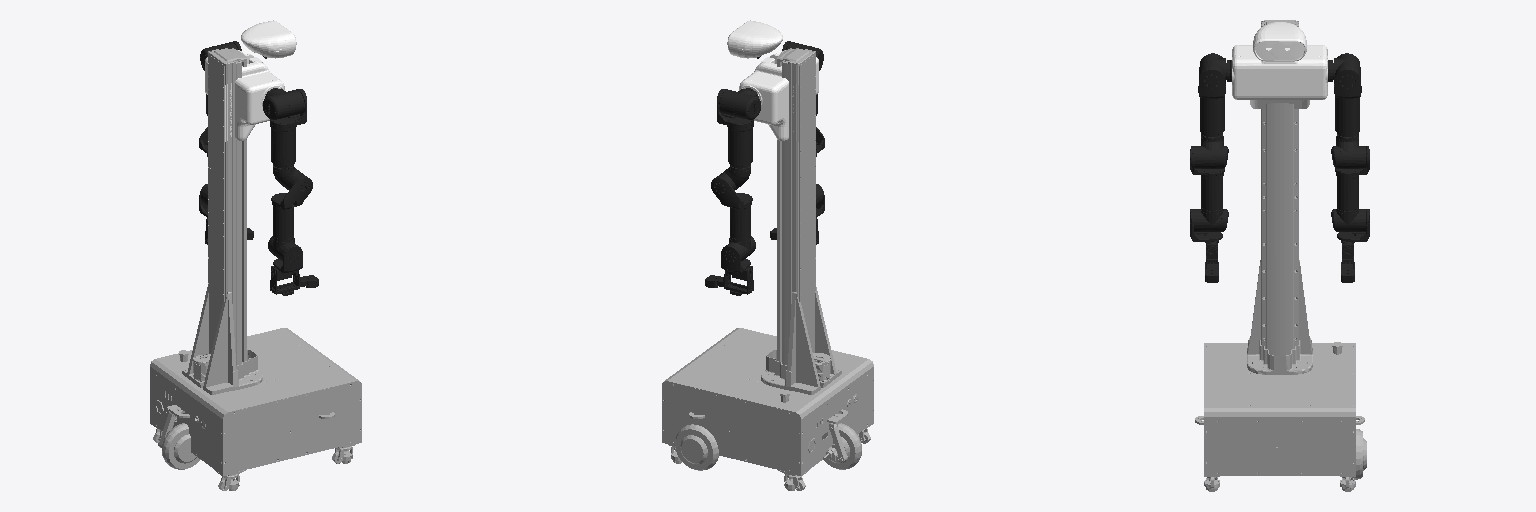
--- Render facts (derived) ---
The picture shows the robot from 3 angles, left to right: view 1: azimuth 30°, elevation 25°; view 2: azimuth 150°, elevation 25°; view 3: azimuth 270°, elevation 25°; orthographic projection.
Model ffw_sg2_follower with 40 links and 39 joints (30 revolute, 1 prismatic, 8 fixed), rooted at world, posed every joint at zero.
Links seen in each view (by area): view 1: base_link, lift_link, arm_base_link, head_link2, arm_r_link2, arm_r_link4, rear_wheel_drive_link, arm_r_link1, arm_r_link6, arm_r_link7; view 2: base_link, lift_link, arm_base_link, left_wheel_drive_link, head_link2, arm_l_link2, arm_l_link4, arm_l_link1, rear_wheel_drive_link, arm_l_link6, arm_l_link7, rear_wheel_steer_link; view 3: base_link, arm_base_link, head_link2, arm_l_link2, arm_r_link2, arm_l_link4, arm_r_link4, arm_l_link3, arm_r_link3, arm_r_link5, arm_l_link5, arm_l_link1 (+1 smaller).
Link boxes in pixels (bbox=[...]): base_link: bbox=[150, 48, 361, 490]; lift_link: bbox=[188, 48, 240, 387]; arm_base_link: bbox=[205, 50, 284, 141]; head_link2: bbox=[241, 20, 296, 58]; arm_r_link2: bbox=[270, 89, 306, 166]; arm_r_link4: bbox=[271, 177, 312, 238]; rear_wheel_drive_link: bbox=[162, 423, 200, 469]; arm_r_link1: bbox=[263, 88, 304, 119]; arm_r_link6: bbox=[271, 245, 302, 280]; arm_r_link7: bbox=[270, 269, 318, 295]; base_link: bbox=[662, 48, 873, 490]; lift_link: bbox=[783, 48, 835, 387]; arm_base_link: bbox=[739, 50, 818, 141]; left_wheel_drive_link: bbox=[675, 424, 718, 470]; head_link2: bbox=[727, 20, 782, 58]; arm_l_link2: bbox=[717, 89, 753, 166]; arm_l_link4: bbox=[711, 177, 752, 238]; arm_l_link1: bbox=[719, 88, 760, 119]; rear_wheel_drive_link: bbox=[822, 423, 861, 469]; arm_l_link6: bbox=[721, 245, 752, 280]; arm_l_link7: bbox=[705, 269, 753, 295]; rear_wheel_steer_link: bbox=[816, 409, 847, 462]; base_link: bbox=[1204, 103, 1355, 491]; arm_base_link: bbox=[1232, 45, 1327, 108]; head_link2: bbox=[1253, 22, 1306, 61]; arm_l_link2: bbox=[1334, 68, 1361, 134]; arm_r_link2: bbox=[1198, 68, 1225, 134]; arm_l_link4: bbox=[1335, 146, 1369, 210]; arm_r_link4: bbox=[1190, 146, 1224, 210]; arm_l_link3: bbox=[1331, 133, 1365, 168]; arm_r_link3: bbox=[1194, 133, 1228, 168]; arm_r_link5: bbox=[1194, 207, 1228, 231]; arm_l_link5: bbox=[1331, 207, 1365, 231]; arm_l_link1: bbox=[1328, 53, 1360, 83].
Size in the robot's own frame: 0.6584 by 0.6042 by 1.61 metres.
24 mesh visuals loaded from 30 distinct referenced files (24 binary STL); not drawn: 11 (reference not matched to a file when rendering), 2 (reference in a form the renderer does not follow; not among the files counted above).

robot.urdf — ffw_sg2_follower:
<?xml version="1.0" ?>
<!-- =================================================================================== -->
<!-- |    This document was autogenerated by xacro from ./ffw_sg2_follower.urdf.xacro  | -->
<!-- |    EDITING THIS FILE BY HAND IS NOT RECOMMENDED                                 | -->
<!-- =================================================================================== -->
<robot name="ffw_sg2_follower">
  <link name="world"/>
  <joint name="world_fixed" type="fixed">
    <parent link="world"/>
    <child link="base_link"/>
    <origin rpy="0 0 0" xyz="0.0 0.0 0.0"/>
  </joint>
  <link name="base_link">
    <visual>
      <origin rpy="0 0 0" xyz="0 0 0"/>
      <geometry>
        <mesh filename="package://ffw_description/meshes/ffw_sg2_rev1_follower/base_mobile_assy.stl" scale="0.001 0.001 0.001"/>
      </geometry>
      <material name="silver">
        <color rgba="0.75 0.75 0.75 1"/>
      </material>
    </visual>
    <collision>
      <origin rpy="0 0 0" xyz="0 0 0"/>
      <geometry>
        <mesh filename="package://ffw_description/meshes/ffw_sg2_rev1_follower/base_mobile_assy.stl" scale="0.001 0.001 0.001"/>
      </geometry>
    </collision>
    <inertial>
       <origin xyz="-4.574796400e-02 6.581058800e-03 1.943184200e-01" />
       <mass value="35.989" />
       <inertia ixx="0.0172547" ixy="0.0000000647" ixz="0.000000189"
                iyy="0.0398374" iyz="0.000000171"
                izz="0.0284613" />
    </inertial>
  </link>
  <link name="lift_link">
    <visual>
      <origin rpy="0 0 0" xyz="0 0 0"/>
      <geometry>
        <mesh filename="package://ffw_description/meshes/ffw_sg2_rev1_follower/lift_link.stl" scale="0.001 0.001 0.001"/>
      </geometry>
      <material name="silver">
        <color rgba="0.75 0.75 0.75 1"/>
      </material>
    </visual>
    <collision>
      <origin rpy="0 0 0" xyz="0 0 0"/>
      <geometry>
        <mesh filename="package://ffw_description/meshes/ffw_sg2_rev1_follower/lift_link.stl" scale="0.001 0.001 0.001"/>
      </geometry>
    </collision>
    <inertial>
       <origin xyz="-1.286987800e-01 -1.604580800e-05 8.945601700e-01" />
       <mass value="17.9" />
       <inertia ixx="0.0100947" ixy="-0.0000000356" ixz="0.0012131"
                iyy="0.0102705" iyz="0.0000000702"
                izz="0.0001971" />
    </inertial>
  </link>
  <joint name="lift_fixed_joint" type="fixed">
    <parent link="base_link"/>
    <child link="lift_link"/>
    <origin rpy="0 0 0" xyz="0.0 0.0 0.0"/>
  </joint>
  <material name="aluminum">
    <color rgba="0.5 0.5 0.5 1"/>
  </material>
  <material name="plastic">
    <color rgba="0.1 0.1 0.1 1"/>
  </material>
  <joint name="lift_joint" type="prismatic">
    <parent link="base_link"/>
    <child link="arm_base_link"/>
    <origin rpy="0 0 0" xyz="-0.0199 0 1.4316"/>
    <axis xyz="0 0 1"/>
    <limit effort="1000" lower="-0.5" upper="0.0" velocity="4.8"/>
    <dynamics damping="0.1"/>
  </joint>
  <link name="arm_base_link">
    <visual>
      <origin rpy="0 0 0" xyz="0 0 0"/>
      <geometry>
        <mesh filename="package://ffw_description/meshes/common/follower/body_arm_assy.stl" scale="0.001 0.001 0.001"/>
      </geometry>
      <material name="white">
        <color rgba="1 1 1 1"/>
      </material>
    </visual>
    <collision>
      <origin rpy="0 0 0" xyz="0 0 0"/>
      <geometry>
        <mesh filename="package://ffw_description/meshes/common/follower/body_arm_assy.stl" scale="0.001 0.001 0.001"/>
      </geometry>
    </collision>
    <inertial>
      <origin xyz="-1.492287800e-02 2.731522500e-03 -4.342526400e-02"/>
      <mass value="6.193955900e+00"/>
      <inertia ixx="1.082886600e-01" ixy="2.929692500e-06" ixz="-1.572750800e-03" iyy="5.432369700e-02" iyz="1.698970600e-03" izz="7.960084300e-02"/>
    </inertial>
  </link>
  <joint name="head_joint1" type="revolute">
    <parent link="arm_base_link"/>
    <child link="head_link1"/>
    <origin rpy="0 0 0" xyz="0.0494878 0 0.102123"/>
    <axis xyz="0 1 0"/>
    <limit effort="1000" lower="-0.2317" upper="0.6951" velocity="4.8"/>
    <dynamics damping="0.1"/>
  </joint>
  <link name="head_link1">
    <visual>
      <origin rpy="0 0 0" xyz="0 0 0"/>
      <geometry>
        <mesh filename="package://ffw_description/meshes/common/follower/head_link1.stl" scale="0.001 0.001 0.001"/>
      </geometry>
      <material name="grey">
        <color rgba="0.2 0.2 0.2 1"/>
      </material>
    </visual>
    <collision>
      <origin rpy="0 0 0" xyz="0 0 0"/>
      <geometry>
        <mesh filename="package://ffw_description/meshes/common/follower/head_link1.stl" scale="0.001 0.001 0.001"/>
      </geometry>
    </collision>
    <inertial>
      <origin xyz="2.533965600e-02 0.000000000e+00 4.774514600e-02"/>
      <mass value="1.235180200e-01"/>
      <inertia ixx="6.870965700e-03" ixy="8.592260200e-07" ixz="-3.002664500e-04" iyy="1.771510200e-02" iyz="-4.447973700e-07" izz="1.631113500e-02"/>
    </inertial>
  </link>
  <joint name="head_joint2" type="revolute">
    <parent link="head_link1"/>
    <child link="head_link2"/>
    <origin rpy="0 0 0" xyz="0.0365694 0 0.0563797"/>
    <axis xyz="0 0 1"/>
    <limit effort="1000" lower="-0.35" upper="0.35" velocity="4.8"/>
    <dynamics damping="0.1"/>
  </joint>
  <link name="head_link2">
    <visual>
      <origin rpy="0 0 0" xyz="0 0 0"/>
      <geometry>
        <mesh filename="package://ffw_description/meshes/common/follower/head_link2.stl" scale="0.001 0.001 0.001"/>
      </geometry>
      <material name="white">
        <color rgba="1 1 1 1"/>
      </material>
    </visual>
    <collision>
      <origin rpy="0 0 0" xyz="0 0 0"/>
      <geometry>
        <mesh filename="package://ffw_description/meshes/common/follower/head_link2.stl" scale="0.001 0.001 0.001"/>
      </geometry>
    </collision>
    <inertial>
      <origin xyz="3.052563400e-03 1.180475700e-03 -1.593280400e-02"/>
      <mass value="3.254213000e-01"/>
      <inertia ixx="8.907301100e-04" ixy="-5.211330800e-06" ixz="1.758054200e-05" iyy="7.631788100e-04" iyz="-1.022156300e-06" izz="1.339403400e-03"/>
    </inertial>
  </link>
  <joint name="arm_l_joint1" type="revolute">
    <parent link="arm_base_link"/>
    <child link="arm_l_link1"/>
    <origin rpy="0 0 0" xyz="0 0.1045 0"/>
    <axis xyz="0 1 0"/>
    <limit effort="1000" lower="-3.14" upper="3.14" velocity="4.8"/>
    <dynamics damping="0.1"/>
  </joint>
  <link name="arm_l_link1">
    <visual>
      <origin rpy="0 0 0" xyz="0 0 0"/>
      <geometry>
        <mesh filename="package://ffw_description/meshes/common/follower/arm_l_link1.stl" scale="0.001 0.001 0.001"/>
      </geometry>
      <material name="black">
        <color rgba="0.2 0.2 0.2 1"/>
      </material>
    </visual>
    <collision>
      <origin rpy="0 0 0" xyz="0 0 0"/>
      <geometry>
        <mesh filename="package://ffw_description/meshes/common/follower/arm_l_link1.stl" scale="0.001 0.001 0.001"/>
      </geometry>
    </collision>
    <inertial>
      <origin xyz="1.421037300e-02 1.155371800e-01 1.120644000e-04"/>
      <mass value="2.001332200e+00"/>
      <inertia ixx="2.507557700e-03" ixy="-2.196355800e-04" ixz="1.151251900e-05" iyy="2.865299700e-03" iyz="-2.311007900e-06" izz="3.365371600e-03"/>
    </inertial>
  </link>
  <joint name="arm_l_joint2" type="revolute">
    <parent link="arm_l_link1"/>
    <child link="arm_l_link2"/>
    <origin rpy="0 0 0" xyz="0 0.123 0"/>
    <axis xyz="1 0 0"/>
    <limit effort="1000" lower="0.0" upper="3.14" velocity="4.8"/>
    <dynamics damping="0.1"/>
  </joint>
  <link name="arm_l_link2">
    <visual>
      <origin rpy="0 0 0" xyz="0 0 0"/>
      <geometry>
        <mesh filename="package://ffw_description/meshes/common/follower/arm_l_link2.stl" scale="0.001 0.001 0.001"/>
      </geometry>
      <material name="black">
        <color rgba="0.2 0.2 0.2 1"/>
      </material>
    </visual>
    <collision>
      <origin rpy="0 0 0" xyz="0 0 0"/>
      <geometry>
        <mesh filename="package://ffw_description/meshes/common/follower/arm_l_link2.stl" scale="0.001 0.001 0.001"/>
      </geometry>
    </collision>
    <inertial>
      <origin xyz="9.109841300e-03 -1.053016500e-04 -1.438640700e-01"/>
      <mass value="2.128261000e+00"/>
      <inertia ixx="9.976166600e-03" ixy="-1.420641600e-06" ixz="-2.370609000e-03" iyy="1.088835300e-02" iyz="4.832141500e-06" izz="3.168582700e-03"/>
    </inertial>
  </link>
  <joint name="arm_l_joint3" type="revolute">
    <parent link="arm_l_link2"/>
    <child link="arm_l_link3"/>
    <origin rpy="0 0 0" xyz="0 0 -0.165"/>
    <axis xyz="0 0 1"/>
    <limit effort="1000" lower="-3.14" upper="3.14" velocity="4.8"/>
    <dynamics damping="0.1"/>
  </joint>
  <link name="arm_l_link3">
    <visual>
      <origin rpy="0 0 0" xyz="0 0 0"/>
      <geometry>
        <mesh filename="package://ffw_description/meshes/common/follower/arm_l_link3.stl" scale="0.001 0.001 0.001"/>
      </geometry>
      <material name="black">
        <color rgba="0.2 0.2 0.2 1"/>
      </material>
    </visual>
    <collision>
      <origin rpy="0 0 0" xyz="0 0 0"/>
      <geometry>
        <mesh filename="package://ffw_description/meshes/common/follower/arm_l_link3.stl" scale="0.001 0.001 0.001"/>
      </geometry>
    </collision>
    <inertial>
      <origin xyz="2.987537300e-02 1.391394900e-02 -1.210139000e-01"/>
      <mass value="1.684755100e+00"/>
      <inertia ixx="2.878077200e-03" ixy="-2.615265200e-04" ixz="6.679408300e-04" iyy="2.707096100e-03" iyz="3.296252200e-04" izz="2.566350600e-03"/>
    </inertial>
  </link>
  <joint name="arm_l_joint4" type="revolute">
    <parent link="arm_l_link3"/>
    <child link="arm_l_link4"/>
    <origin rpy="0 0 0" xyz="0.041004 0 -0.135"/>
    <axis xyz="0 1 0"/>
    <limit effort="1000" lower="-2.9361" upper="1.0786" velocity="4.8"/>
    <dynamics damping="0.1"/>
  </joint>
  <link name="arm_l_link4">
    <visual>
      <origin rpy="0 0 0" xyz="0 0 0"/>
      <geometry>
        <mesh filename="package://ffw_description/meshes/common/follower/arm_l_link4.stl" scale="0.001 0.001 0.001"/>
      </geometry>
      <material name="black">
        <color rgba="0.2 0.2 0.2 1"/>
      </material>
    </visual>
    <collision>
      <origin rpy="0 0 0" xyz="0 0 0"/>
      <geometry>
        <mesh filename="package://ffw_description/meshes/common/follower/arm_l_link4.stl" scale="0.001 0.001 0.001"/>
      </geometry>
    </collision>
    <inertial>
      <origin xyz="-3.853865300e-02 9.807228600e-03 -1.313122800e-01"/>
      <mass value="1.508214400e+00"/>
      <inertia ixx="6.252303800e-03" ixy="-2.162798200e-04" ixz="-5.113660100e-04" iyy="5.705086400e-03" iyz="-1.597759100e-03" izz="2.098027800e-03"/>
    </inertial>
  </link>
  <joint name="arm_l_joint5" type="revolute">
    <parent link="arm_l_link4"/>
    <child link="arm_l_link5"/>
    <origin rpy="0 0 0" xyz="-0.041004 0 -0.1489"/>
    <axis xyz="0 0 1"/>
    <limit effort="1000" lower="-3.14" upper="3.14" velocity="4.8"/>
    <dynamics damping="0.1"/>
  </joint>
  <link name="arm_l_link5">
    <visual>
      <origin rpy="0 0 0" xyz="0 0 0"/>
      <geometry>
        <mesh filename="package://ffw_description/meshes/common/follower/arm_l_link5.stl" scale="0.001 0.001 0.001"/>
      </geometry>
      <material name="black">
        <color rgba="0.2 0.2 0.2 1"/>
      </material>
    </visual>
    <collision>
      <origin rpy="0 0 0" xyz="0 0 0"/>
      <geometry>
        <mesh filename="package://ffw_description/meshes/common/follower/arm_l_link5.stl" scale="0.001 0.001 0.001"/>
      </geometry>
    </collision>
    <inertial>
      <origin xyz="-3.122616100e-05 1.681922700e-02 -9.873815600e-02"/>
      <mass value="1.391783100e+00"/>
      <inertia ixx="1.885672100e-03" ixy="1.326915800e-06" ixz="2.418484800e-07" iyy="1.285272900e-03" iyz="1.287761700e-04" izz="1.689335300e-03"/>
    </inertial>
  </link>
  <joint name="arm_l_joint6" type="revolute">
    <parent link="arm_l_link5"/>
    <child link="arm_l_link6"/>
    <origin rpy="0 0 0" xyz="0 0 -0.1041"/>
    <axis xyz="0 1 0"/>
    <limit effort="1000" lower="-1.57" upper="1.57" velocity="4.8"/>
    <dynamics damping="0.1"/>
  </joint>
  <link name="arm_l_link6">
    <visual>
      <origin rpy="0 0 0" xyz="0 0 0"/>
      <geometry>
        <mesh filename="package://ffw_description/meshes/common/follower/arm_l_link6.stl" scale="0.001 0.001 0.001"/>
      </geometry>
      <material name="black">
        <color rgba="0.2 0.2 0.2 1"/>
      </material>
    </visual>
    <collision>
      <origin rpy="0 0 0" xyz="0 0 0"/>
      <geometry>
        <mesh filename="package://ffw_description/meshes/common/follower/arm_l_link6.stl" scale="0.001 0.001 0.001"/>
      </geometry>
    </collision>
    <inertial>
      <origin xyz="2.243891700e-03 1.876410500e-02 -6.480557600e-02"/>
      <mass value="6.577074100e-01"/>
      <inertia ixx="1.416138700e-03" ixy="2.839010300e-05" ixz="3.582229500e-05" iyy="1.142334400e-03" iyz="-5.356836800e-04" izz="1.017517600e-03"/>
    </inertial>
  </link>
  <joint name="arm_l_joint7" type="revolute">
    <parent link="arm_l_link6"/>
    <child link="arm_l_link7"/>
    <origin rpy="0 0 0" xyz="0 0 -0.0885"/>
    <axis xyz="1 0 0"/>
    <limit effort="1000" lower="-1.8201" upper="1.5804" velocity="4.8"/>
    <dynamics damping="0.1"/>
  </joint>
  <link name="arm_l_link7">
    <visual>
      <origin rpy="0 0 0" xyz="0 0 0"/>
      <geometry>
        <mesh filename="package://ffw_description/meshes/common/follower/arm_l_link7.stl" scale="0.001 0.001 0.001"/>
      </geometry>
      <material name="black">
        <color rgba="0.2 0.2 0.2 1"/>
      </material>
    </visual>
    <collision>
      <origin rpy="0 0 0" xyz="0 0 0"/>
      <geometry>
        <mesh filename="package://ffw_description/meshes/common/follower/arm_l_link7.stl" scale="0.001 0.001 0.001"/>
      </geometry>
    </collision>
    <inertial>
      <origin xyz="2.550659300e-02 0.000000000e+00 -5.539533100e-02"/>
      <mass value="1.668563000e-01"/>
      <inertia ixx="1.035867900e-04" ixy="0.000000000e+00" ixz="1.098870100e-05" iyy="4.524528700e-04" iyz="0.000000000e+00" izz="4.156884400e-04"/>
    </inertial>
  </link>
  <!-- camera body, with origin at bottom screw mount -->
  <joint name="camera_l_joint" type="fixed">
    <origin rpy="-1.57079632679 1.66678943569 0" xyz="0.108236 -0.021 -0.062552"/>
    <parent link="arm_l_link7"/>
    <child link="camera_l_bottom_screw_frame"/>
  </joint>
  <link name="camera_l_bottom_screw_frame"/>
  <joint name="camera_l_link_joint" type="fixed">
    <origin rpy="0 0 0" xyz="0.01085 0.009 0.021"/>
    <parent link="camera_l_bottom_screw_frame"/>
    <child link="camera_l_link"/>
  </joint>
  <link name="camera_l_link">
    <visual>
      <!-- the mesh origin is at front plate in between the two infrared camera axes -->
      <origin rpy="1.5707963267948966 0 1.5707963267948966" xyz="0.0038 -0.009 0"/>
      <geometry>
        <mesh filename="file:///root/ros2_ws/install/realsense2_description/share/realsense2_description/meshes/d405.stl" scale="0.001 0.001 0.001"/>
      </geometry>
      <material name="aluminum"/>
    </visual>
    <collision>
      <origin rpy="0 0 0" xyz="-0.0078 -0.009 0"/>
      <geometry>
        <box size="0.023 0.042 0.042"/>
      </geometry>
    </collision>
    <inertial>
      <mass value="0.072"/>
      <origin xyz="0 0 0"/>
      <inertia ixx="0.003881243" ixy="0.0" ixz="0.0" iyy="0.000498940" iyz="0.0" izz="0.003879257"/>
    </inertial>
  </link>
  <joint name="arm_r_joint1" type="revolute">
    <parent link="arm_base_link"/>
    <child link="arm_r_link1"/>
    <origin rpy="0 0 0" xyz="0 -0.1045 0"/>
    <axis xyz="0 1 0"/>
    <limit effort="1000" lower="-3.14" upper="3.14" velocity="4.8"/>
    <dynamics damping="0.1"/>
  </joint>
  <link name="arm_r_link1">
    <visual>
      <origin rpy="0 0 0" xyz="0 0 0"/>
      <geometry>
        <mesh filename="package://ffw_description/meshes/common/follower/arm_r_link1.stl" scale="0.001 0.001 0.001"/>
      </geometry>
      <material name="black">
        <color rgba="0.2 0.2 0.2 1"/>
      </material>
    </visual>
    <collision>
      <origin rpy="0 0 0" xyz="0 0 0"/>
      <geometry>
        <mesh filename="package://ffw_description/meshes/common/follower/arm_r_link1.stl" scale="0.001 0.001 0.001"/>
      </geometry>
    </collision>
    <inertial>
      <origin xyz="1.421037300e-02 -1.155371800e-01 -1.120644000e-04"/>
      <mass value="2.001332200e+00"/>
      <inertia ixx="2.507557700e-03" ixy="2.196355800e-04" ixz="-1.151251900e-05" iyy="2.865299700e-03" iyz="-2.311007900e-06" izz="3.365371600e-03"/>
    </inertial>
  </link>
  <joint name="arm_r_joint2" type="revolute">
    <parent link="arm_r_link1"/>
    <child link="arm_r_link2"/>
    <origin rpy="0 0 0" xyz="0 -0.123 0"/>
    <axis xyz="1 0 0"/>
    <limit effort="1000" lower="-3.14" upper="0" velocity="4.8"/>
    <dynamics damping="0.1"/>
  </joint>
  <link name="arm_r_link2">
    <visual>
      <origin rpy="0 0 0" xyz="0 0 0"/>
      <geometry>
        <mesh filename="package://ffw_description/meshes/common/follower/arm_r_link2.stl" scale="0.001 0.001 0.001"/>
      </geometry>
      <material name="black">
        <color rgba="0.2 0.2 0.2 1"/>
      </material>
    </visual>
    <collision>
      <origin rpy="0 0 0" xyz="0 0 0"/>
      <geometry>
        <mesh filename="package://ffw_description/meshes/common/follower/arm_r_link2.stl" scale="0.001 0.001 0.001"/>
      </geometry>
    </collision>
    <inertial>
      <origin xyz="9.109841300e-03 -1.053016500e-04 -1.438640700e-01"/>
      <mass value="2.128261000e+00"/>
      <inertia ixx="9.976166600e-03" ixy="-1.420641600e-06" ixz="-2.370609000e-03" iyy="1.088835300e-02" iyz="4.832141500e-06" izz="3.168582700e-03"/>
    </inertial>
  </link>
  <joint name="arm_r_joint3" type="revolute">
    <parent link="arm_r_link2"/>
    <child link="arm_r_link3"/>
    <origin rpy="0 0 0" xyz="0 0 -0.165"/>
    <axis xyz="0 0 1"/>
    <limit effort="1000" lower="-3.14" upper="3.14" velocity="4.8"/>
    <dynamics damping="0.1"/>
  </joint>
  <link name="arm_r_link3">
    <visual>
      <origin rpy="0 0 0" xyz="0 0 0"/>
      <geometry>
        <mesh filename="package://ffw_description/meshes/common/follower/arm_r_link3.stl" scale="0.001 0.001 0.001"/>
      </geometry>
      <material name="black">
        <color rgba="0.2 0.2 0.2 1"/>
      </material>
    </visual>
    <collision>
      <origin rpy="0 0 0" xyz="0 0 0"/>
      <geometry>
        <mesh filename="package://ffw_description/meshes/common/follower/arm_r_link3.stl" scale="0.001 0.001 0.001"/>
      </geometry>
    </collision>
    <inertial>
      <origin xyz="2.984576500e-02 -1.392295900e-02 -1.210435100e-01"/>
      <mass value="1.684755100e+00"/>
      <inertia ixx="2.877971200e-03" ixy="2.632159900e-04" ixz="6.677998500e-04" iyy="2.707378400e-03" iyz="-3.275929900e-04" izz="2.563528600e-03"/>
    </inertial>
  </link>
  <joint name="arm_r_joint4" type="revolute">
    <parent link="arm_r_link3"/>
    <child link="arm_r_link4"/>
    <origin rpy="0 0 0" xyz="0.041004 0 -0.135"/>
    <axis xyz="0 1 0"/>
    <limit effort="1000" lower="-2.9361" upper="1.0786" velocity="4.8"/>
    <dynamics damping="0.1"/>
  </joint>
  <link name="arm_r_link4">
    <visual>
      <origin rpy="0 0 0" xyz="0 0 0"/>
      <geometry>
        <mesh filename="package://ffw_description/meshes/common/follower/arm_r_link4.stl" scale="0.001 0.001 0.001"/>
      </geometry>
      <material name="black">
        <color rgba="0.2 0.2 0.2 1"/>
      </material>
    </visual>
    <collision>
      <origin rpy="0 0 0" xyz="0 0 0"/>
      <geometry>
        <mesh filename="package://ffw_description/meshes/common/follower/arm_r_link4.stl" scale="0.001 0.001 0.001"/>
      </geometry>
    </collision>
    <inertial>
      <origin xyz="-3.867746800e-02 -9.308009900e-03 -1.322971300e-01"/>
      <mass value="1.494251100e+00"/>
      <inertia ixx="6.032357900e-03" ixy="2.028997300e-04" ixz="-4.854051900e-04" iyy="5.536423500e-03" iyz="1.507124600e-03" izz="2.032999700e-03"/>
    </inertial>
  </link>
  <joint name="arm_r_joint5" type="revolute">
    <parent link="arm_r_link4"/>
    <child link="arm_r_link5"/>
    <origin rpy="0 0 0" xyz="-0.041004 0 -0.1489"/>
    <axis xyz="0 0 1"/>
    <limit effort="1000" lower="-3.14" upper="3.14" velocity="4.8"/>
    <dynamics damping="0.1"/>
  </joint>
  <link name="arm_r_link5">
    <visual>
      <origin rpy="0 0 0" xyz="0 0 0"/>
      <geometry>
        <mesh filename="package://ffw_description/meshes/common/follower/arm_r_link5.stl" scale="0.001 0.001 0.001"/>
      </geometry>
      <material name="black">
        <color rgba="0.2 0.2 0.2 1"/>
      </material>
    </visual>
    <collision>
      <origin rpy="0 0 0" xyz="0 0 0"/>
      <geometry>
        <mesh filename="package://ffw_description/meshes/common/follower/arm_r_link5.stl" scale="0.001 0.001 0.001"/>
      </geometry>
    </collision>
    <inertial>
      <origin xyz="8.387686000e-04 -1.679849900e-02 -9.873815600e-02"/>
      <mass value="1.391783100e+00"/>
      <inertia ixx="1.882492800e-03" ixy="3.480391000e-05" ixz="6.806743100e-06" iyy="1.288452200e-03" iyz="-1.285963700e-04" izz="1.689335300e-03"/>
    </inertial>
  </link>
  <joint name="arm_r_joint6" type="revolute">
    <parent link="arm_r_link5"/>
    <child link="arm_r_link6"/>
    <origin rpy="0 0 0" xyz="0 0 -0.1041"/>
    <axis xyz="0 1 0"/>
    <limit effort="1000" lower="-1.57" upper="1.57" velocity="4.8"/>
    <dynamics damping="0.1"/>
  </joint>
  <link name="arm_r_link6">
    <visual>
      <origin rpy="0 0 0" xyz="0 0 0"/>
      <geometry>
        <mesh filename="package://ffw_description/meshes/common/follower/arm_r_link6.stl" scale="0.001 0.001 0.001"/>
      </geometry>
      <material name="black">
        <color rgba="0.2 0.2 0.2 1"/>
      </material>
    </visual>
    <collision>
      <origin rpy="0 0 0" xyz="0 0 0"/>
      <geometry>
        <mesh filename="package://ffw_description/meshes/common/follower/arm_r_link6.stl" scale="0.001 0.001 0.001"/>
      </geometry>
    </collision>
    <inertial>
      <origin xyz="3.267491200e-03 -1.861259000e-02 -6.479261600e-02"/>
      <mass value="6.577074100e-01"/>
      <inertia ixx="1.417976200e-03" ixy="-1.325841000e-05" ixz="6.534407900e-06" iyy="1.139647400e-03" iyz="5.366707300e-04" izz="1.017476200e-03"/>
    </inertial>
  </link>
  <joint name="arm_r_joint7" type="revolute">
    <parent link="arm_r_link6"/>
    <child link="arm_r_link7"/>
    <origin rpy="0 0 0" xyz="0 0 -0.0885"/>
    <axis xyz="1 0 0"/>
    <limit effort="1000" lower="-1.5804" upper="1.8201" velocity="4.8"/>
    <dynamics damping="0.1"/>
  </joint>
  <link name="arm_r_link7">
    <visual>
      <origin rpy="0 0 0" xyz="0 0 0"/>
      <geometry>
        <mesh filename="package://ffw_description/meshes/common/follower/arm_r_link7.stl" scale="0.001 0.001 0.001"/>
      </geometry>
      <material name="black">
        <color rgba="0.2 0.2 0.2 1"/>
      </material>
    </visual>
    <collision>
      <origin rpy="0 0 0" xyz="0 0 0"/>
      <geometry>
        <mesh filename="package://ffw_description/meshes/common/follower/arm_r_link7.stl" scale="0.001 0.001 0.001"/>
      </geometry>
    </collision>
    <inertial>
      <origin xyz="2.546836200e-02 1.396001200e-03 -5.539533100e-02"/>
      <mass value="1.668563000e-01"/>
      <inertia ixx="1.046318100e-04" ixy="-1.906515900e-05" ixz="1.097223300e-05" iyy="4.514078500e-04" iyz="6.013716400e-07" izz="4.156884400e-04"/>
    </inertial>
  </link>
  <!-- camera body, with origin at bottom screw mount -->
  <joint name="camera_r_joint" type="fixed">
    <origin rpy="-1.57079632679 1.66678943569 0" xyz="0.108236 -0.021 -0.062552"/>
    <parent link="arm_r_link7"/>
    <child link="camera_r_bottom_screw_frame"/>
  </joint>
  <link name="camera_r_bottom_screw_frame"/>
  <joint name="camera_r_link_joint" type="fixed">
    <origin rpy="0 0 0" xyz="0.01085 0.009 0.021"/>
    <parent link="camera_r_bottom_screw_frame"/>
    <child link="camera_r_link"/>
  </joint>
  <link name="camera_r_link">
    <visual>
      <!-- the mesh origin is at front plate in between the two infrared camera axes -->
      <origin rpy="1.5707963267948966 0 1.5707963267948966" xyz="0.0038 -0.009 0"/>
      <geometry>
        <mesh filename="file:///root/ros2_ws/install/realsense2_description/share/realsense2_description/meshes/d405.stl" scale="0.001 0.001 0.001"/>
      </geometry>
      <material name="aluminum"/>
    </visual>
    <collision>
      <origin rpy="0 0 0" xyz="-0.0078 -0.009 0"/>
      <geometry>
        <box size="0.023 0.042 0.042"/>
      </geometry>
    </collision>
    <inertial>
      <!-- The following are not reliable values, and should not be used for modeling -->
      <mass value="0.072"/>
      <origin xyz="0 0 0"/>
      <inertia ixx="0.003881243" ixy="0.0" ixz="0.0" iyy="0.000498940" iyz="0.0" izz="0.003879257"/>
    </inertial>
  </link>
  <joint name="gripper_l_joint" type="fixed">
    <origin rpy="0 3.14159265359 3.14159265359" xyz="0 0 -0.078"/>
    <parent link="arm_l_link7"/>
    <child link="gripper_l_rh_p12_rn_base"/>
  </joint>
  <!-- base -->
  <link name="gripper_l_rh_p12_rn_base">
    <collision>
      <origin rpy="0 0 0" xyz="0 0 0"/>
      <geometry>
        <mesh filename="package://ffw_description/meshes/common/rh_p12_rn_a/base.stl" scale="0.001 0.001 0.001"/>
      </geometry>
    </collision>
    <visual>
      <origin rpy="0 0 0" xyz="0 0 0"/>
      <geometry>
        <mesh filename="package://ffw_description/meshes/common/rh_p12_rn_a/base.stl" scale="0.001 0.001 0.001"/>
      </geometry>
      <material name="grey">
        <color rgba="0.2 0.2 0.2 1"/>
      </material>
    </visual>
    <inertial>
      <origin rpy="0 0 0" xyz="0.000 0.000 0.032"/>
      <mass value="0.236"/>
      <inertia ixx="0.000001" ixy="0.0" ixz="0.0" iyy="0.000001" iyz="0.0" izz="0.000001"/>
    </inertial>
  </link>
  <!-- Joint -->
  <joint name="gripper_l_joint1" type="revolute">
    <parent link="gripper_l_rh_p12_rn_base"/>
    <child link="gripper_l_rh_p12_rn_r1"/>
    <origin rpy="0 0 0" xyz="0.0 0.008 0.048"/>
    <axis xyz="1 0 0"/>
    <limit effort="1000" lower="0.0" upper="1.1" velocity="6.5"/>
    <dynamics damping="0.7"/>
  </joint>
  <!-- rh_p12_rn_r1 -->
  <link name="gripper_l_rh_p12_rn_r1">
    <collision>
      <origin rpy="0 0 0" xyz="0 0 0"/>
      <geometry>
        <mesh filename="package://ffw_description/meshes/common/rh_p12_rn_a/r1.stl" scale="0.001 0.001 0.001"/>
      </geometry>
    </collision>
    <visual>
      <origin rpy="0 0 0" xyz="0 0 0"/>
      <geometry>
        <mesh filename="package://ffw_description/meshes/common/rh_p12_rn_a/r1.stl" scale="0.001 0.001 0.001"/>
      </geometry>
      <material name="grey">
        <color rgba="0.2 0.2 0.2 1"/>
      </material>
    </visual>
    <inertial>
      <origin rpy="0 0 0" xyz="0.000 0.034 0.004"/>
      <mass value="0.068"/>
      <inertia ixx="0.000001" ixy="0.0" ixz="0.0" iyy="0.000001" iyz="0.0" izz="0.000001"/>
    </inertial>
  </link>
  <!-- Right Joint 2 -->
  <joint name="gripper_l_joint2" type="revolute">
    <parent link="gripper_l_rh_p12_rn_r1"/>
    <child link="gripper_l_rh_p12_rn_r2"/>
    <origin rpy="0 0 0" xyz="0.0 0.0493634 0.0285"/>
    <axis xyz="-1 0 0"/>
    <limit effort="1000" lower="0.0" upper="1.0" velocity="6.5"/>
    <dynamics damping="0.7"/>
    <mimic joint="gripper_l_joint1" multiplier="1"/>
  </joint>
  <!-- rh_p12_rn_r2 -->
  <link name="gripper_l_rh_p12_rn_r2">
    <collision>
      <origin rpy="0 0 0" xyz="0 0 0"/>
      <geometry>
        <mesh filename="package://ffw_description/meshes/common/rh_p12_rn_a/r2.stl" scale="0.001 0.001 0.001"/>
      </geometry>
    </collision>
    <visual>
      <origin rpy="0 0 0" xyz="0 0 0"/>
      <geometry>
        <mesh filename="package://ffw_description/meshes/common/rh_p12_rn_a/r2.stl" scale="0.001 0.001 0.001"/>
      </geometry>
      <material name="grey">
        <color rgba="0.2 0.2 0.2 1"/>
      </material>
    </visual>
    <inertial>
      <origin rpy="0 0 0" xyz="0.000 0.006 0.011"/>
      <mass value="0.022"/>
      <inertia ixx="0.000001" ixy="0.0" ixz="0.0" iyy="0.000001" iyz="0.0" izz="0.000001"/>
    </inertial>
  </link>
  <!-- Left Joint 1 -->
  <joint name="gripper_l_joint3" type="revolute">
    <parent link="gripper_l_rh_p12_rn_base"/>
    <child link="gripper_l_rh_p12_rn_l1"/>
    <origin rpy="0 0 0" xyz="0.0 -0.008 0.048"/>
    <axis xyz="-1 0 0"/>
    <limit effort="1000" lower="0.0" upper="1.1" velocity="6.5"/>
    <dynamics damping="0.7"/>
    <mimic joint="gripper_l_joint1" multiplier="1"/>
  </joint>
  <!-- rh_p12_rn_l1 -->
  <link name="gripper_l_rh_p12_rn_l1">
    <collision>
      <origin rpy="0 0 0" xyz="0 0 0"/>
      <geometry>
        <mesh filename="package://ffw_description/meshes/common/rh_p12_rn_a/l1.stl" scale="0.001 0.001 0.001"/>
      </geometry>
    </collision>
    <visual>
      <origin rpy="0 0 0" xyz="0 0 0"/>
      <geometry>
        <mesh filename="package://ffw_description/meshes/common/rh_p12_rn_a/l1.stl" scale="0.001 0.001 0.001"/>
      </geometry>
      <material name="grey">
        <color rgba="0.2 0.2 0.2 1"/>
      </material>
    </visual>
    <inertial>
      <origin rpy="0 0 0" xyz="0.000 -0.034 0.004"/>
      <mass value="0.068"/>
      <inertia ixx="0.000001" ixy="0.0" ixz="0.0" iyy="0.000001" iyz="0.0" izz="0.000001"/>
    </inertial>
  </link>
  <!-- Left Joint 2 -->
  <joint name="gripper_l_joint4" type="revolute">
    <parent link="gripper_l_rh_p12_rn_l1"/>
    <child link="gripper_l_rh_p12_rn_l2"/>
    <origin rpy="0 0 0" xyz="0.0 -0.0493634 0.0285"/>
    <axis xyz="1 0 0"/>
    <limit effort="1000" lower="0.0" upper="1.0" velocity="6.5"/>
    <dynamics damping="0.7"/>
    <mimic joint="gripper_l_joint1" multiplier="1"/>
  </joint>
  <!-- rh_p12_rn_l2 -->
  <link name="gripper_l_rh_p12_rn_l2">
    <collision>
      <origin rpy="0 0 0" xyz="0 0 0"/>
      <geometry>
        <mesh filename="package://ffw_description/meshes/common/rh_p12_rn_a/l2.stl" scale="0.001 0.001 0.001"/>
      </geometry>
    </collision>
    <visual>
      <origin rpy="0 0 0" xyz="0 0 0"/>
      <geometry>
        <mesh filename="package://ffw_description/meshes/common/rh_p12_rn_a/l2.stl" scale="0.001 0.001 0.001"/>
      </geometry>
      <material name="grey">
        <color rgba="0.2 0.2 0.2 1"/>
      </material>
    </visual>
    <inertial>
      <origin rpy="0 0 0" xyz="0.000 -0.006 0.011"/>
      <mass value="0.022"/>
      <inertia ixx="0.000001" ixy="0.0" ixz="0.0" iyy="0.000001" iyz="0.0" izz="0.000001"/>
    </inertial>
  </link>
  <joint name="gripper_r_joint" type="fixed">
    <origin rpy="0 3.14159265359 3.14159265359" xyz="0 0 -0.078"/>
    <parent link="arm_r_link7"/>
    <child link="gripper_r_rh_p12_rn_base"/>
  </joint>
  <!-- base -->
  <link name="gripper_r_rh_p12_rn_base">
    <collision>
      <origin rpy="0 0 0" xyz="0 0 0"/>
      <geometry>
        <mesh filename="package://ffw_description/meshes/common/rh_p12_rn_a/base.stl" scale="0.001 0.001 0.001"/>
      </geometry>
    </collision>
    <visual>
      <origin rpy="0 0 0" xyz="0 0 0"/>
      <geometry>
        <mesh filename="package://ffw_description/meshes/common/rh_p12_rn_a/base.stl" scale="0.001 0.001 0.001"/>
      </geometry>
      <material name="grey">
        <color rgba="0.2 0.2 0.2 1"/>
      </material>
    </visual>
    <inertial>
      <origin rpy="0 0 0" xyz="0.000 0.000 0.032"/>
      <mass value="0.236"/>
      <inertia ixx="0.000001" ixy="0.0" ixz="0.0" iyy="0.000001" iyz="0.0" izz="0.000001"/>
    </inertial>
  </link>
  <!-- Joint -->
  <joint name="gripper_r_joint1" type="revolute">
    <parent link="gripper_r_rh_p12_rn_base"/>
    <child link="gripper_r_rh_p12_rn_r1"/>
    <origin rpy="0 0 0" xyz="0.0 0.008 0.048"/>
    <axis xyz="1 0 0"/>
    <limit effort="1000" lower="0.0" upper="1.1" velocity="6.5"/>
    <dynamics damping="0.7"/>
  </joint>
  <!-- rh_p12_rn_r1 -->
  <link name="gripper_r_rh_p12_rn_r1">
    <collision>
      <origin rpy="0 0 0" xyz="0 0 0"/>
      <geometry>
        <mesh filename="package://ffw_description/meshes/common/rh_p12_rn_a/r1.stl" scale="0.001 0.001 0.001"/>
      </geometry>
    </collision>
    <visual>
      <origin rpy="0 0 0" xyz="0 0 0"/>
      <geometry>
        <mesh filename="package://ffw_description/meshes/common/rh_p12_rn_a/r1.stl" scale="0.001 0.001 0.001"/>
      </geometry>
      <material name="grey">
        <color rgba="0.2 0.2 0.2 1"/>
      </material>
    </visual>
    <inertial>
      <origin rpy="0 0 0" xyz="0.000 0.034 0.004"/>
      <mass value="0.068"/>
      <inertia ixx="0.000001" ixy="0.0" ixz="0.0" iyy="0.000001" iyz="0.0" izz="0.000001"/>
    </inertial>
  </link>
  <!-- Right Joint 2 -->
  <joint name="gripper_r_joint2" type="revolute">
    <parent link="gripper_r_rh_p12_rn_r1"/>
    <child link="gripper_r_rh_p12_rn_r2"/>
    <origin rpy="0 0 0" xyz="0.0 0.0493634 0.0285"/>
    <axis xyz="-1 0 0"/>
    <limit effort="1000" lower="0.0" upper="1.0" velocity="6.5"/>
    <dynamics damping="0.7"/>
    <mimic joint="gripper_r_joint1" multiplier="1"/>
  </joint>
  <!-- rh_p12_rn_r2 -->
  <link name="gripper_r_rh_p12_rn_r2">
    <collision>
      <origin rpy="0 0 0" xyz="0 0 0"/>
      <geometry>
        <mesh filename="package://ffw_description/meshes/common/rh_p12_rn_a/r2.stl" scale="0.001 0.001 0.001"/>
      </geometry>
    </collision>
    <visual>
      <origin rpy="0 0 0" xyz="0 0 0"/>
      <geometry>
        <mesh filename="package://ffw_description/meshes/common/rh_p12_rn_a/r2.stl" scale="0.001 0.001 0.001"/>
      </geometry>
      <material name="grey">
        <color rgba="0.2 0.2 0.2 1"/>
      </material>
    </visual>
    <inertial>
      <origin rpy="0 0 0" xyz="0.000 0.006 0.011"/>
      <mass value="0.022"/>
      <inertia ixx="0.000001" ixy="0.0" ixz="0.0" iyy="0.000001" iyz="0.0" izz="0.000001"/>
    </inertial>
  </link>
  <!-- Left Joint 1 -->
  <joint name="gripper_r_joint3" type="revolute">
    <parent link="gripper_r_rh_p12_rn_base"/>
    <child link="gripper_r_rh_p12_rn_l1"/>
    <origin rpy="0 0 0" xyz="0.0 -0.008 0.048"/>
    <axis xyz="-1 0 0"/>
    <limit effort="1000" lower="0.0" upper="1.1" velocity="6.5"/>
    <dynamics damping="0.7"/>
    <mimic joint="gripper_r_joint1" multiplier="1"/>
  </joint>
  <!-- rh_p12_rn_l1 -->
  <link name="gripper_r_rh_p12_rn_l1">
    <collision>
      <origin rpy="0 0 0" xyz="0 0 0"/>
      <geometry>
        <mesh filename="package://ffw_description/meshes/common/rh_p12_rn_a/l1.stl" scale="0.001 0.001 0.001"/>
      </geometry>
    </collision>
    <visual>
      <origin rpy="0 0 0" xyz="0 0 0"/>
      <geometry>
        <mesh filename="package://ffw_description/meshes/common/rh_p12_rn_a/l1.stl" scale="0.001 0.001 0.001"/>
      </geometry>
      <material name="grey">
        <color rgba="0.2 0.2 0.2 1"/>
      </material>
    </visual>
    <inertial>
      <origin rpy="0 0 0" xyz="0.000 -0.034 0.004"/>
      <mass value="0.068"/>
      <inertia ixx="0.000001" ixy="0.0" ixz="0.0" iyy="0.000001" iyz="0.0" izz="0.000001"/>
    </inertial>
  </link>
  <!-- Left Joint 2 -->
  <joint name="gripper_r_joint4" type="revolute">
    <parent link="gripper_r_rh_p12_rn_l1"/>
    <child link="gripper_r_rh_p12_rn_l2"/>
    <origin rpy="0 0 0" xyz="0.0 -0.0493634 0.0285"/>
    <axis xyz="1 0 0"/>
    <limit effort="1000" lower="0.0" upper="1.0" velocity="6.5"/>
    <dynamics damping="0.7"/>
    <mimic joint="gripper_r_joint1" multiplier="1"/>
  </joint>
  <!-- rh_p12_rn_l2 -->
  <link name="gripper_r_rh_p12_rn_l2">
    <collision>
      <origin rpy="0 0 0" xyz="0 0 0"/>
      <geometry>
        <mesh filename="package://ffw_description/meshes/common/rh_p12_rn_a/l2.stl" scale="0.001 0.001 0.001"/>
      </geometry>
    </collision>
    <visual>
      <origin rpy="0 0 0" xyz="0 0 0"/>
      <geometry>
        <mesh filename="package://ffw_description/meshes/common/rh_p12_rn_a/l2.stl" scale="0.001 0.001 0.001"/>
      </geometry>
      <material name="grey">
        <color rgba="0.2 0.2 0.2 1"/>
      </material>
    </visual>
    <inertial>
      <origin rpy="0 0 0" xyz="0.000 -0.006 0.011"/>
      <mass value="0.022"/>
      <inertia ixx="0.000001" ixy="0.0" ixz="0.0" iyy="0.000001" iyz="0.0" izz="0.000001"/>
    </inertial>
  </link>
  <joint name="left_wheel_steer" type="revolute">
    <parent link="base_link"/>
    <child link="left_wheel_steer_link"/>
    <origin rpy="0 0 0" xyz="0.1371 0.2554 0.27555"/>
    <axis xyz="0 0 1"/>
    <limit effort="1" lower="-18.84955592153876" upper="18.84955592153876" velocity="4.8"/>
  </joint>
  <link name="left_wheel_steer_link">
    <visual>
      <origin rpy="0 0 0" xyz="0 0 0"/>
      <geometry>
        <mesh filename="package://ffw_description/meshes/ffw_sg2_rev1_follower/left_wheel_steer_link.stl" scale="0.001 0.001 0.001"/>
      </geometry>
      <material name="silver">
        <color rgba="0.75 0.75 0.75 1"/>
      </material>
    </visual>
    <collision>
      <origin rpy="0 0 0" xyz="0 0 0"/>
      <geometry>
        <mesh filename="package://ffw_description/meshes/ffw_sg2_rev1_follower/left_wheel_steer_link.stl" scale="0.001 0.001 0.001"/>
      </geometry>
    </collision>
    <inertial>
      <origin xyz="9.802769300e-03 -5.471240900e-02 -1.376533800e-01"/>
      <mass value="7.550951000e-01"/>
      <inertia ixx="2.797326600e-03" ixy="-3.290807800e-05" ixz="-1.950671800e-04" iyy="3.582264900e-03" iyz="-2.853290700e-04" izz="1.683594000e-03"/>
    </inertial>
  </link>
  <joint name="left_wheel_drive" type="revolute">
    <parent link="left_wheel_steer_link"/>
    <child link="left_wheel_drive_link"/>
    <origin rpy="0 0 0" xyz="0 0 -0.18905"/>
    <axis xyz="0 1 0"/>
    <limit effort="1" lower="-18.84955592153876" upper="18.84955592153876" velocity="4.8"/>
  </joint>
  <link name="left_wheel_drive_link">
    <visual>
      <origin rpy="0 0 0" xyz="0 0 0"/>
      <geometry>
        <mesh filename="package://ffw_description/meshes/ffw_sg2_rev1_follower/left_wheel_drive_link.stl" scale="0.001 0.001 0.001"/>
      </geometry>
      <material name="silver">
        <color rgba="0.75 0.75 0.75 1"/>
      </material>
    </visual>
    <collision>
      <origin rpy="0 0 0" xyz="0 0 0"/>
      <geometry>
        <mesh filename="package://ffw_description/meshes/ffw_sg2_rev1_follower/left_wheel_drive_link.stl" scale="0.001 0.001 0.001"/>
      </geometry>
    </collision>
    <inertial>
      <origin xyz="0.000000000e+00 -1.499601700e-03 0.000000000e+00"/>
      <mass value="3.795460500e+00"/>
      <inertia ixx="7.187881500e-03" ixy="0.000000000e+00" ixz="0.000000000e+00" iyy="1.156399900e-02" iyz="0.000000000e+00" izz="7.187977000e-03"/>
    </inertial>
  </link>
  <joint name="right_wheel_steer" type="revolute">
    <parent link="base_link"/>
    <child link="right_wheel_steer_link"/>
    <origin rpy="0 0 0" xyz="0.1371 -0.2554 0.27555"/>
    <axis xyz="0 0 1"/>
    <limit effort="1" lower="-18.84955592153876" upper="18.84955592153876" velocity="4.8"/>
  </joint>
  <link name="right_wheel_steer_link">
    <visual>
      <origin rpy="0 0 0" xyz="0 0 0"/>
      <geometry>
        <mesh filename="package://ffw_description/meshes/ffw_sg2_rev1_follower/right_wheel_steer_link.stl" scale="0.001 0.001 0.001"/>
      </geometry>
      <material name="silver">
        <color rgba="0.75 0.75 0.75 1"/>
      </material>
    </visual>
    <collision>
      <origin rpy="0 0 0" xyz="0 0 0"/>
      <geometry>
        <mesh filename="package://ffw_description/meshes/ffw_sg2_rev1_follower/right_wheel_steer_link.stl" scale="0.001 0.001 0.001"/>
      </geometry>
    </collision>
    <inertial>
      <origin xyz="9.802728600e-03 5.471240900e-02 -1.376533400e-01"/>
      <mass value="7.550951000e-01"/>
      <inertia ixx="2.797322900e-03" ixy="3.290833300e-05" ixz="-1.950642500e-04" iyy="3.582262300e-03" iyz="2.853288400e-04" izz="1.683595100e-03"/>
    </inertial>
  </link>
  <joint name="right_wheel_drive" type="revolute">
    <parent link="right_wheel_steer_link"/>
    <child link="right_wheel_drive_link"/>
    <origin rpy="0 0 0" xyz="0 0 -0.18905"/>
    <axis xyz="0 1 0"/>
    <limit effort="1" lower="-18.84955592153876" upper="18.84955592153876" velocity="4.8"/>
  </joint>
  <link name="right_wheel_drive_link">
    <visual>
      <origin rpy="0 0 0" xyz="0 0 0"/>
      <geometry>
        <mesh filename="package://ffw_description/meshes/ffw_sg2_rev1_follower/right_wheel_drive_link.stl" scale="0.001 0.001 0.001"/>
      </geometry>
      <material name="silver">
        <color rgba="0.75 0.75 0.75 1"/>
      </material>
    </visual>
    <collision>
      <origin rpy="0 0 0" xyz="0 0 0"/>
      <geometry>
        <mesh filename="package://ffw_description/meshes/ffw_sg2_rev1_follower/right_wheel_drive_link.stl" scale="0.001 0.001 0.001"/>
      </geometry>
    </collision>
    <inertial>
      <origin xyz="0.000000000e+00 1.499601700e-03 0.000000000e+00"/>
      <mass value="3.795460500e+00"/>
      <inertia ixx="7.187881500e-03" ixy="0.000000000e+00" ixz="0.000000000e+00" iyy="1.156399900e-02" iyz="0.000000000e+00" izz="7.187977000e-03"/>
    </inertial>
  </link>
  <joint name="rear_wheel_steer" type="revolute">
    <parent link="base_link"/>
    <child link="rear_wheel_steer_link"/>
    <origin rpy="0 0 0" xyz="-0.2899 0 0.27555"/>
    <axis xyz="0 0 1"/>
    <limit effort="1" lower="-18.84955592153876" upper="18.84955592153876" velocity="4.8"/>
  </joint>
  <link name="rear_wheel_steer_link">
    <visual>
      <origin rpy="0 0 0" xyz="0 0 0"/>
      <geometry>
        <mesh filename="package://ffw_description/meshes/ffw_sg2_rev1_follower/rear_wheel_steer_link.stl" scale="0.001 0.001 0.001"/>
      </geometry>
      <material name="silver">
        <color rgba="0.75 0.75 0.75 1"/>
      </material>
    </visual>
    <collision>
      <origin rpy="0 0 0" xyz="0 0 0"/>
      <geometry>
        <mesh filename="package://ffw_description/meshes/ffw_sg2_rev1_follower/rear_wheel_steer_link.stl" scale="0.001 0.001 0.001"/>
      </geometry>
    </collision>
    <inertial>
      <origin xyz="9.802728600e-03 5.471240900e-02 -1.376533400e-01"/>
      <mass value="7.550951000e-01"/>
      <inertia ixx="2.797322900e-03" ixy="3.290833300e-05" ixz="-1.950642500e-04" iyy="3.582262300e-03" iyz="2.853288400e-04" izz="1.683595100e-03"/>
    </inertial>
  </link>
  <joint name="rear_wheel_drive" type="revolute">
    <parent link="rear_wheel_steer_link"/>
    <child link="rear_wheel_drive_link"/>
    <origin rpy="0 0 0" xyz="0 0 -0.18905"/>
    <axis xyz="0 1 0"/>
    <limit effort="1" lower="-18.84955592153876" upper="18.84955592153876" velocity="4.8"/>
  </joint>
  <link name="rear_wheel_drive_link">
    <visual>
      <origin rpy="0 0 0" xyz="0 0 0"/>
      <geometry>
        <mesh filename="package://ffw_description/meshes/ffw_sg2_rev1_follower/rear_wheel_drive_link.stl" scale="0.001 0.001 0.001"/>
      </geometry>
      <material name="silver">
        <color rgba="0.75 0.75 0.75 1"/>
      </material>
    </visual>
    <collision>
      <origin rpy="0 0 0" xyz="0 0 0"/>
      <geometry>
        <mesh filename="package://ffw_description/meshes/ffw_sg2_rev1_follower/rear_wheel_drive_link.stl" scale="0.001 0.001 0.001"/>
      </geometry>
    </collision>
    <inertial>
      <origin xyz="0.000000000e+00 1.499601700e-03 0.000000000e+00"/>
      <mass value="3.795460500e+00"/>
      <inertia ixx="7.187881500e-03" ixy="0.000000000e+00" ixz="0.000000000e+00" iyy="1.156399900e-02" iyz="0.000000000e+00" izz="7.187977000e-03"/>
    </inertial>
  </link>
</robot>
